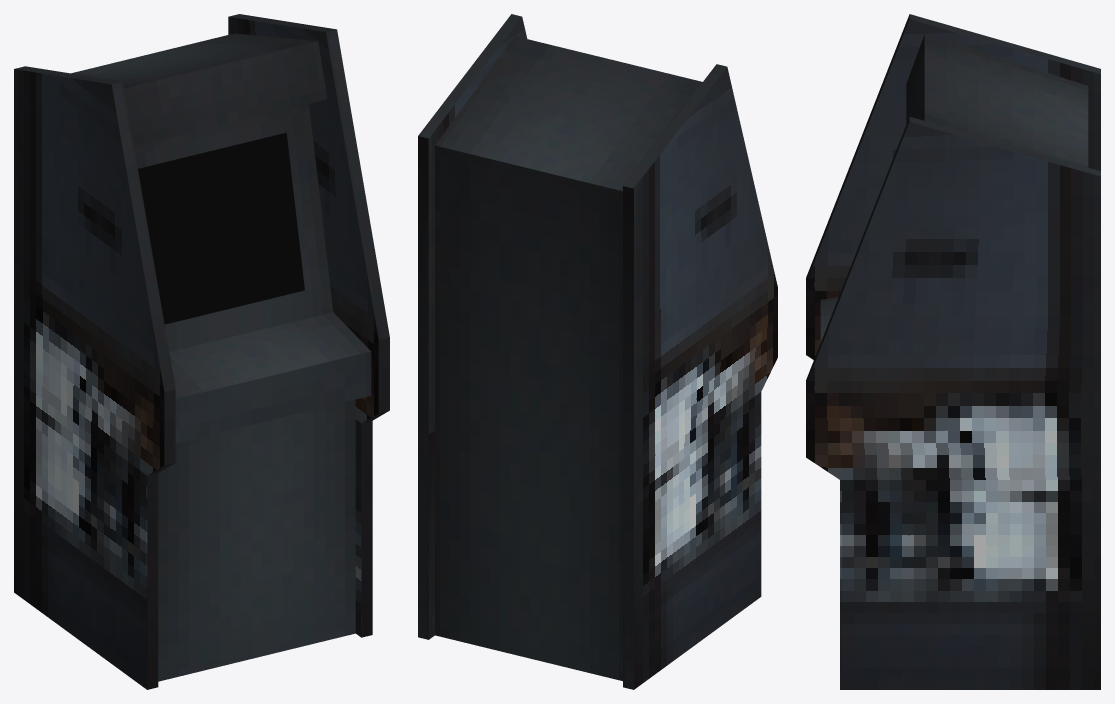
File: Arcade01.obj
3 renders of one model, left to right at view 1: azimuth 30°, elevation 25°; view 2: azimuth 150°, elevation 25°; view 3: azimuth 270°, elevation 25°, orthographic. The views are drawn at different scales.
Visible parts, largest first — view 1: Arcade01; view 2: Arcade01; view 3: Arcade01.
Boxes of the visible parts, box(x1,y1,x2,y2) form: Arcade01: box(14, 14, 389, 689); Arcade01: box(418, 14, 777, 689); Arcade01: box(806, 14, 1100, 689).
Bounding box in the file's own units: 1 × 2.46 × 1.16.
